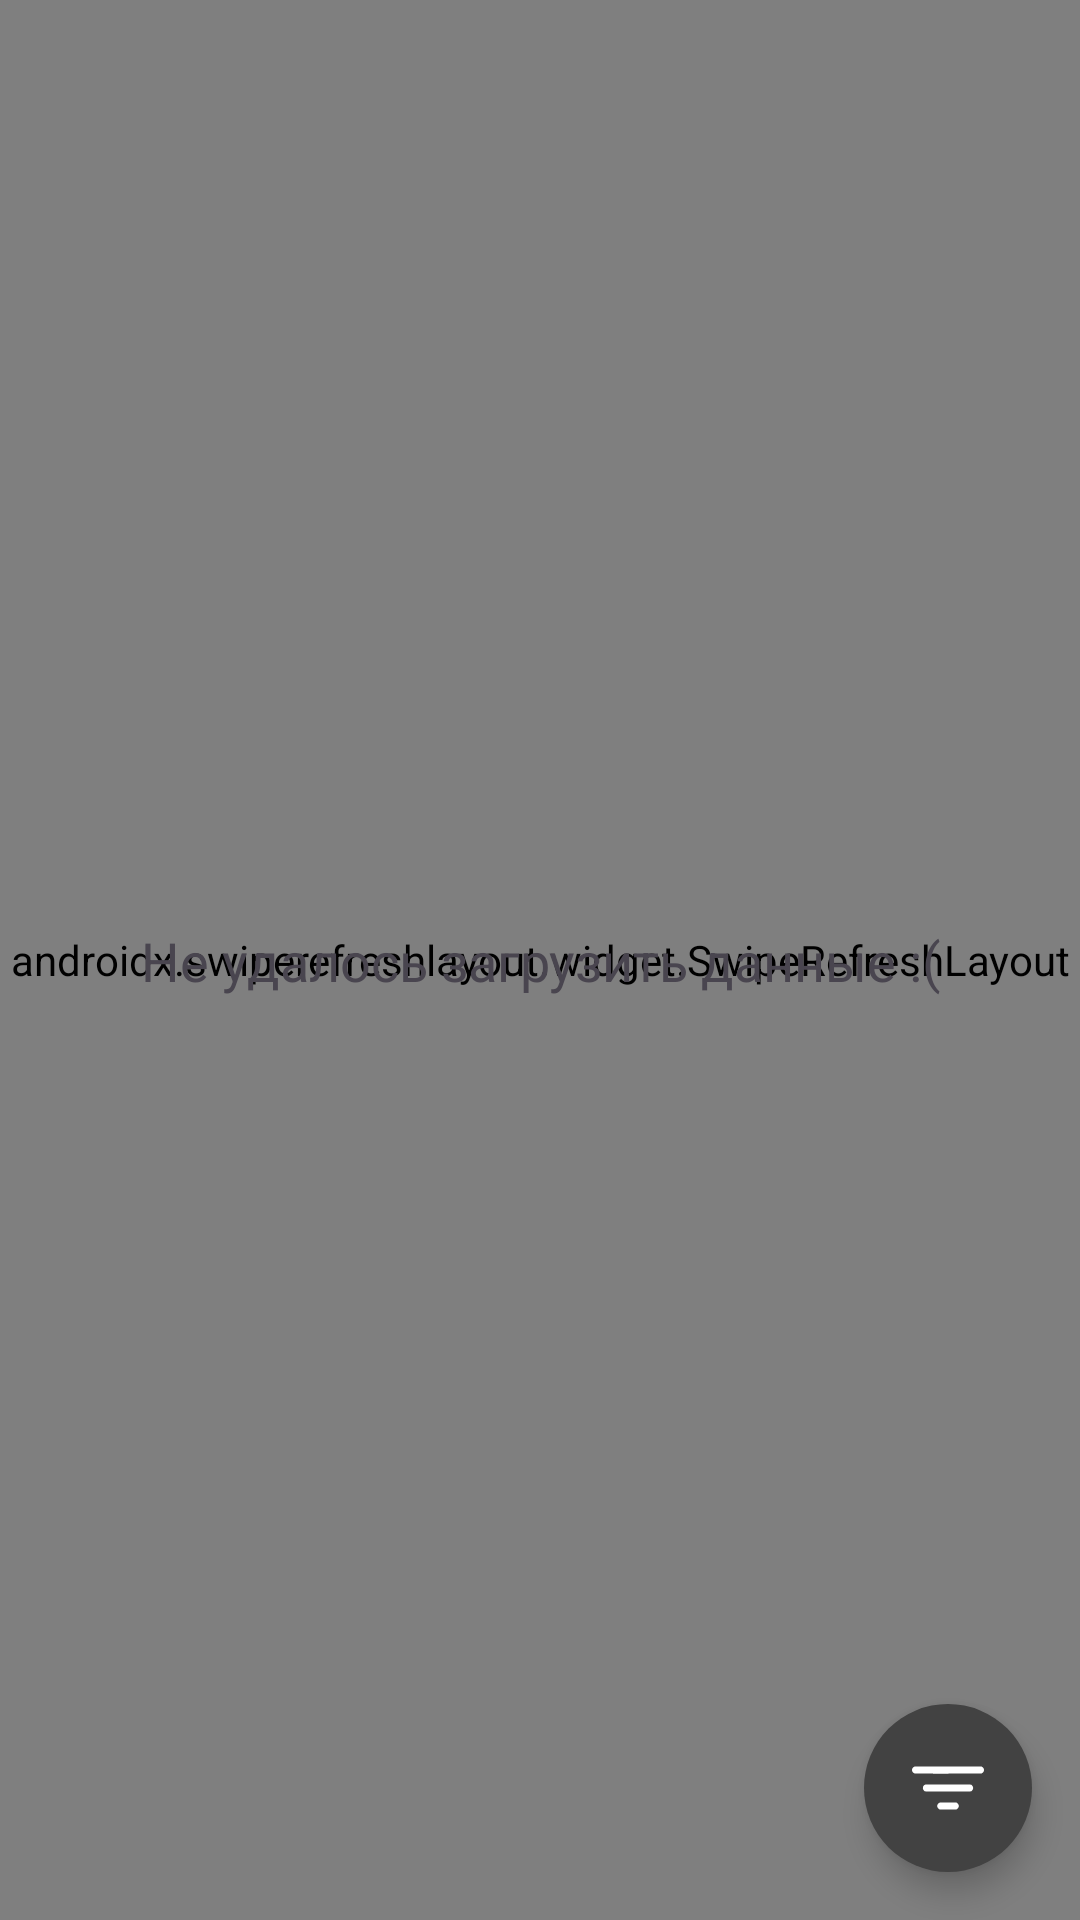

Point at icon controls on the screen. Image size 1080 × 1920, points as point (x, y).
filter: point (948, 1788)
